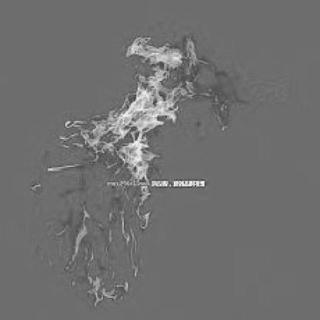Fire: (34, 17, 282, 303)
